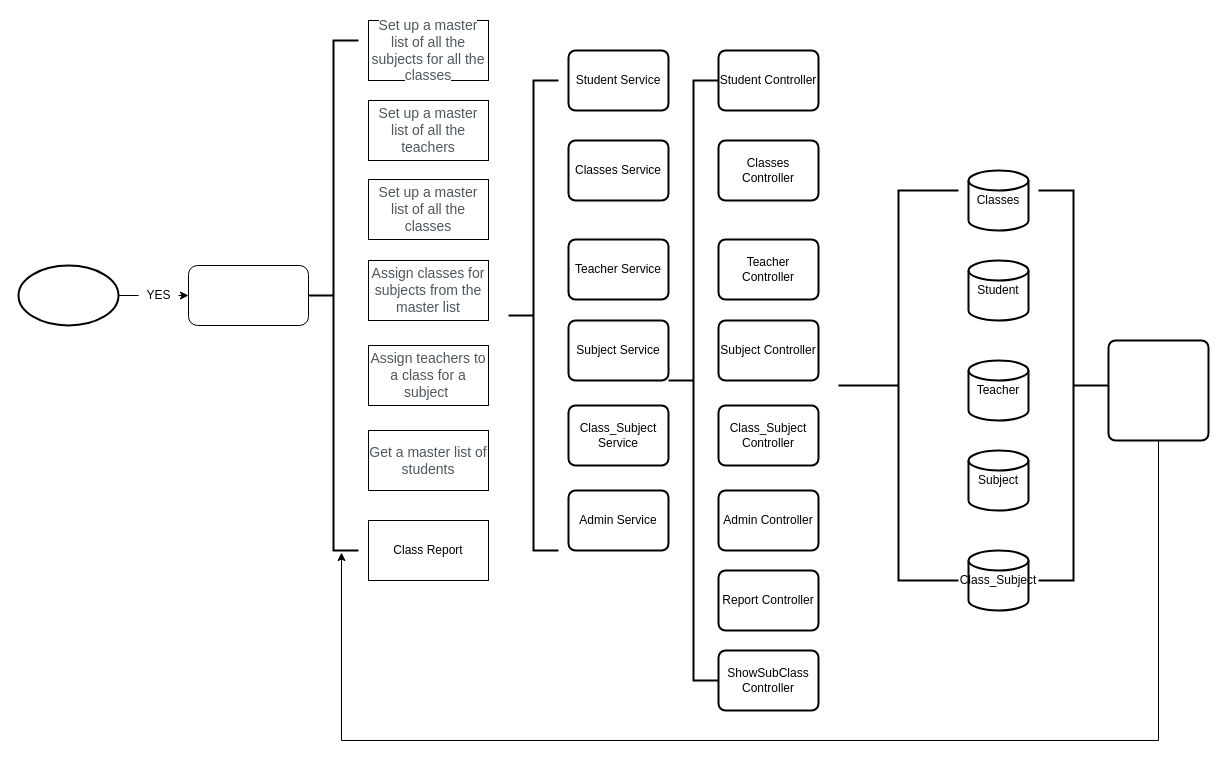
Image size: 1226x766. Some labels were removed from this diagram. Each missing label, with the centre of its shape:
"Admin Login Page" belongs at point (68, 295).
"Home Page" belongs at point (248, 295).
"Response" belongs at point (1158, 390).
